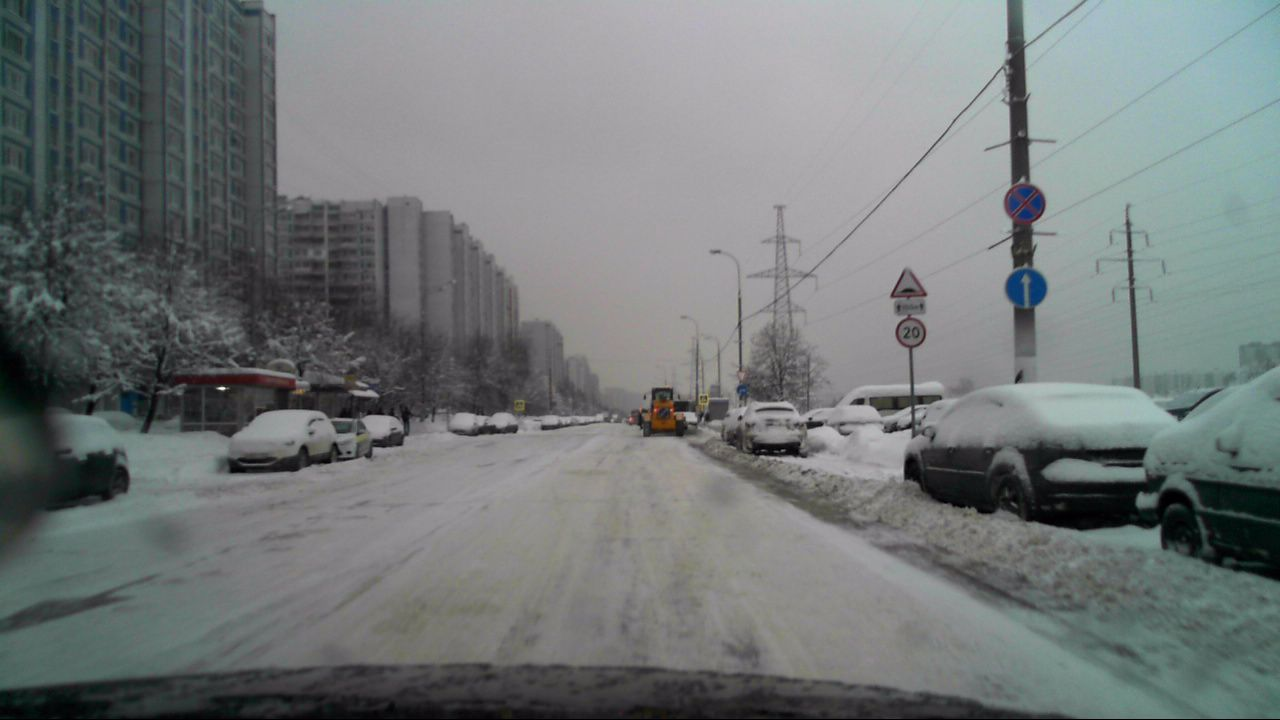No Parking: (1002, 179, 1049, 224)
